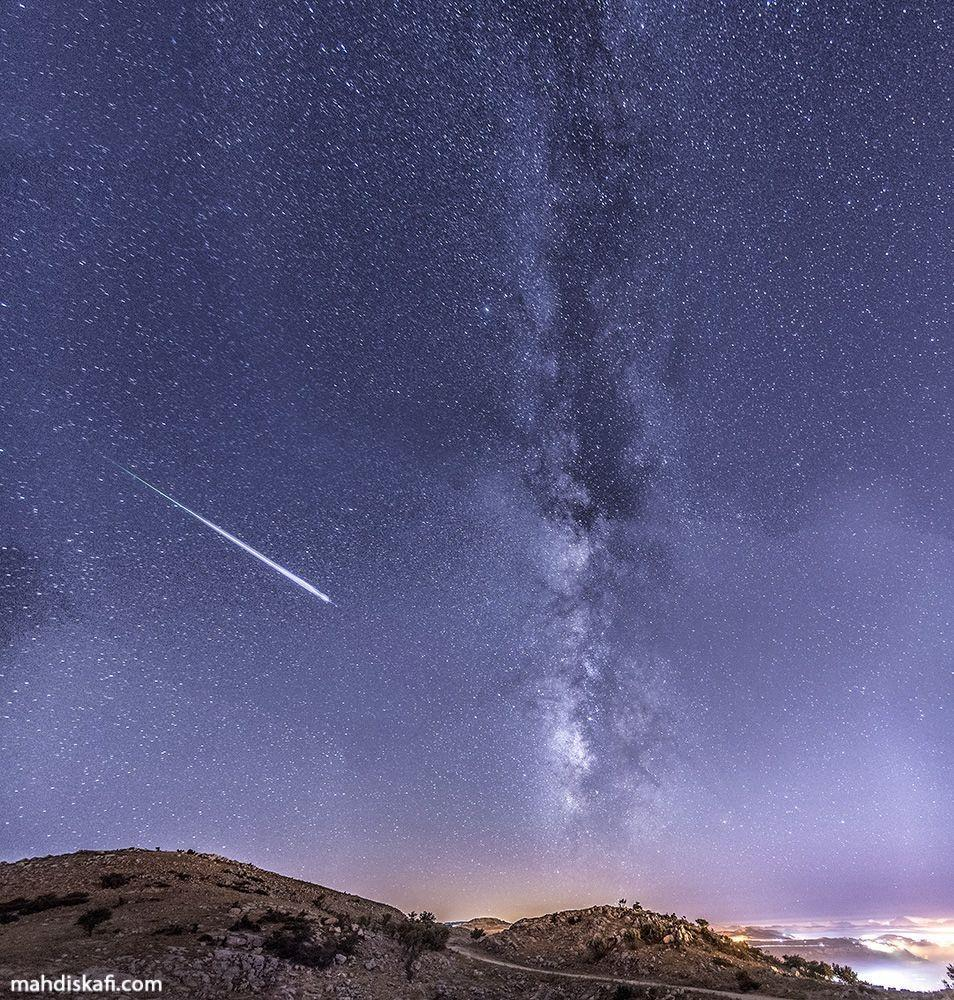meteorite: (93, 416, 366, 614)
